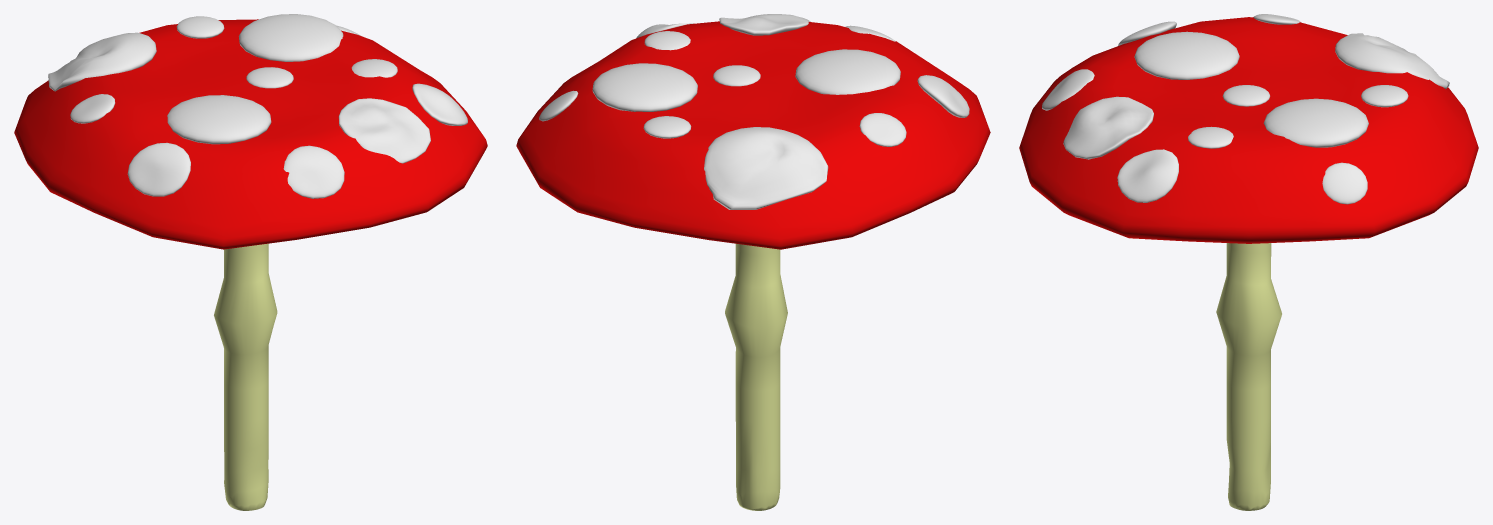
Rendered from Mushroom Assets.fbx.
The picture shows the model from 3 angles, left to right: view 1: azimuth 30°, elevation 25°; view 2: azimuth 150°, elevation 25°; view 3: azimuth 270°, elevation 25°; orthographic projection.
Visible parts, largest first — view 1: pSphere1, pCylinder1, pSphere3, pSphere2, pSphere4, pSphere5, pSphere6, pSphere11, pSphere7, pSphere9, pSphere13, pSphere8 (+1 smaller); view 2: pSphere1, pCylinder1, pSphere5, pSphere4, pSphere2, pSphere3, pSphere9, pSphere6, pSphere13, pSphere8, pSphere10, pSphere14; view 3: pSphere1, pCylinder1, pSphere2, pSphere4, pSphere3, pSphere5, pSphere7, pSphere14, pSphere11, pSphere13, pSphere8, pSphere10.
Boxes of the visible parts, <box> form: pSphere1: <box>14,19,487,249</box>; pCylinder1: <box>214,243,277,510</box>; pSphere3: <box>338,98,430,163</box>; pSphere2: <box>167,95,271,144</box>; pSphere4: <box>239,14,343,61</box>; pSphere5: <box>48,32,156,91</box>; pSphere6: <box>127,142,190,196</box>; pSphere11: <box>283,145,344,198</box>; pSphere7: <box>412,83,467,125</box>; pSphere9: <box>70,94,115,123</box>; pSphere13: <box>176,16,224,38</box>; pSphere8: <box>246,67,293,88</box>; pSphere1: <box>516,21,990,249</box>; pCylinder1: <box>725,243,787,510</box>; pSphere5: <box>704,127,828,209</box>; pSphere4: <box>592,63,697,111</box>; pSphere2: <box>795,49,900,94</box>; pSphere3: <box>719,14,810,35</box>; pSphere9: <box>859,113,906,146</box>; pSphere6: <box>917,75,969,117</box>; pSphere13: <box>643,116,691,138</box>; pSphere8: <box>713,65,760,86</box>; pSphere10: <box>644,31,690,50</box>; pSphere14: <box>539,90,578,121</box>; pSphere1: <box>1019,17,1478,243</box>; pCylinder1: <box>1216,243,1281,510</box>; pSphere2: <box>1134,31,1239,79</box>; pSphere4: <box>1263,98,1368,147</box>; pSphere3: <box>1063,96,1153,159</box>; pSphere5: <box>1335,33,1449,88</box>; pSphere7: <box>1117,149,1178,202</box>; pSphere14: <box>1322,162,1367,204</box>; pSphere11: <box>1042,69,1094,110</box>; pSphere13: <box>1361,85,1408,107</box>; pSphere8: <box>1222,85,1270,106</box>; pSphere10: <box>1188,126,1233,148</box>.
Bounding box in the file's own units: 7.42 × 7.73 × 7.51.
